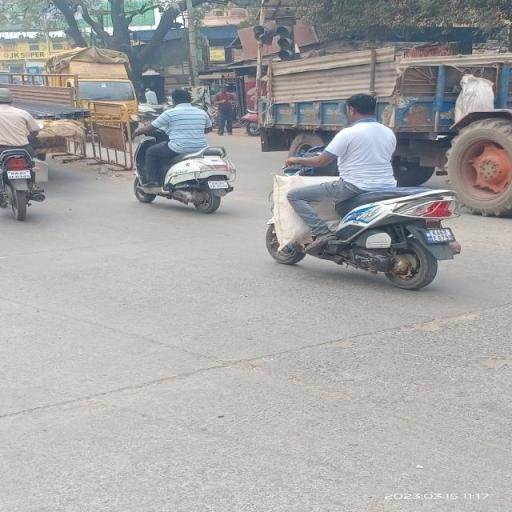bike: (260, 94, 464, 292)
numberplate: (424, 224, 453, 244)
withouthelmet: (348, 94, 378, 120)
